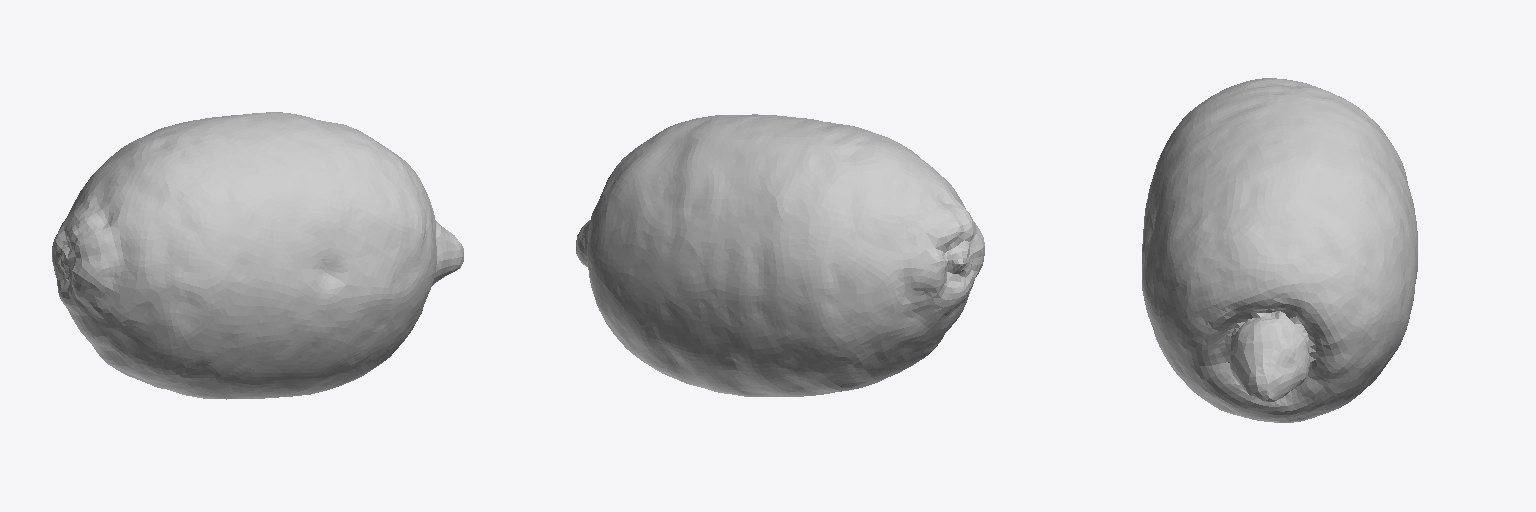
Rendered from Lemon.obj.
3 views of the same model, side by side, from view 1: azimuth 30°, elevation 25°; view 2: azimuth 150°, elevation 25°; view 3: azimuth 270°, elevation 25° (orthographic).
Visible parts, largest first — view 1: OBJ_v_8314_f_16624; view 2: OBJ_v_8314_f_16624; view 3: OBJ_v_8314_f_16624.
Part boxes in pixels (x1,y1,x2,y2): OBJ_v_8314_f_16624: (52,112,463,399); OBJ_v_8314_f_16624: (576,114,984,396); OBJ_v_8314_f_16624: (1142,78,1417,422).
Bounding box in the file's own units: 12.31 × 7.91 × 7.44.